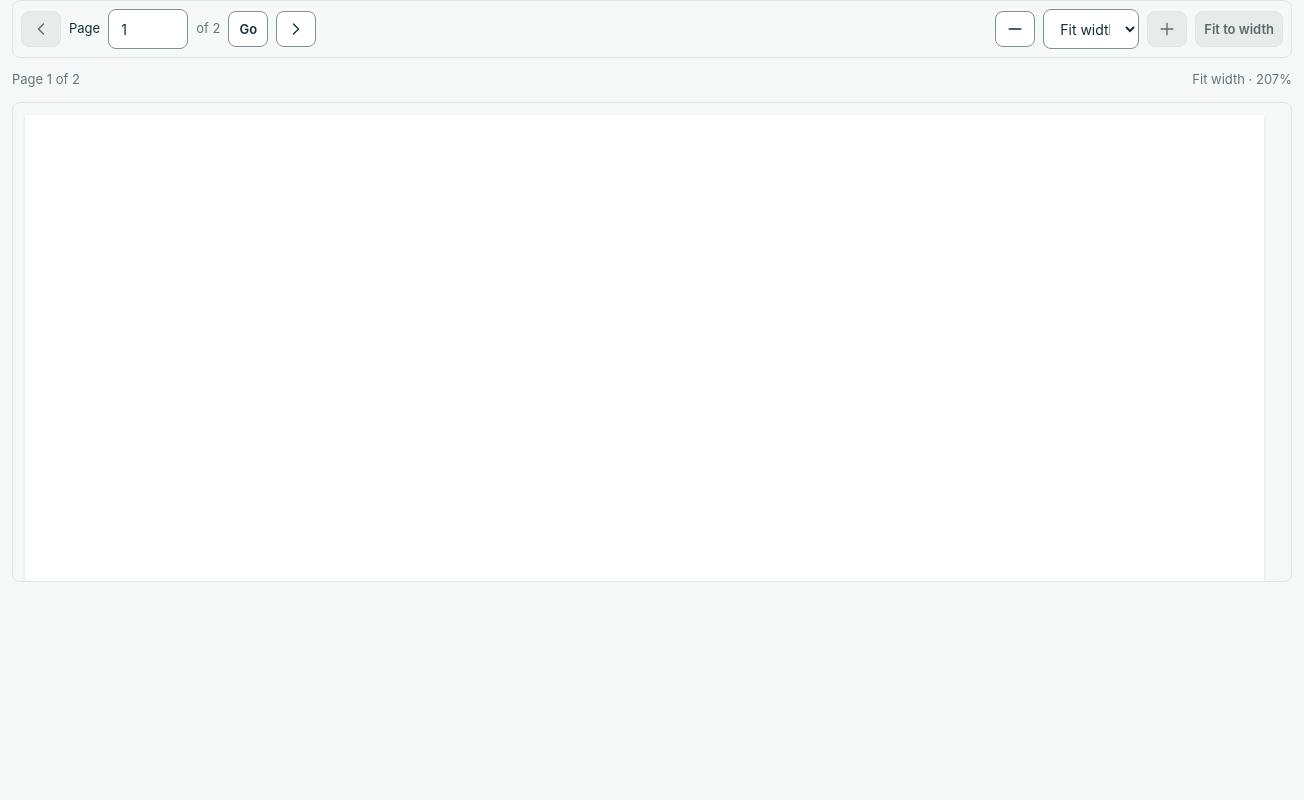
Test: PDF page reader › retains visual zoom across page changes and restores fit-to-width on demand
Select "150%" in the dropdown named "Zoom level": [1091, 29] box [1043,9,1139,49]
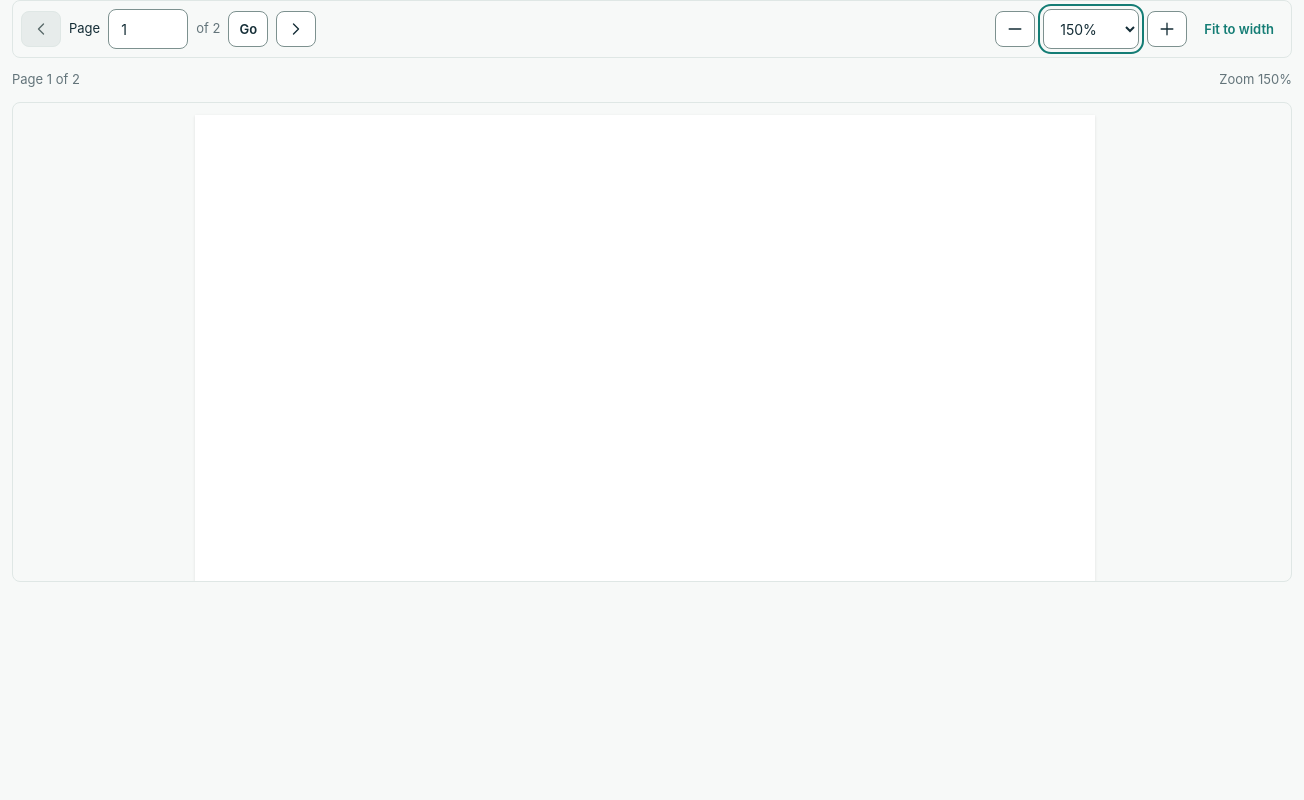
Expected: the text "Zoom 150%" is shown, [1219,70,1292,90]
Click the button named "Next page": [296, 29] box [276,11,316,47]
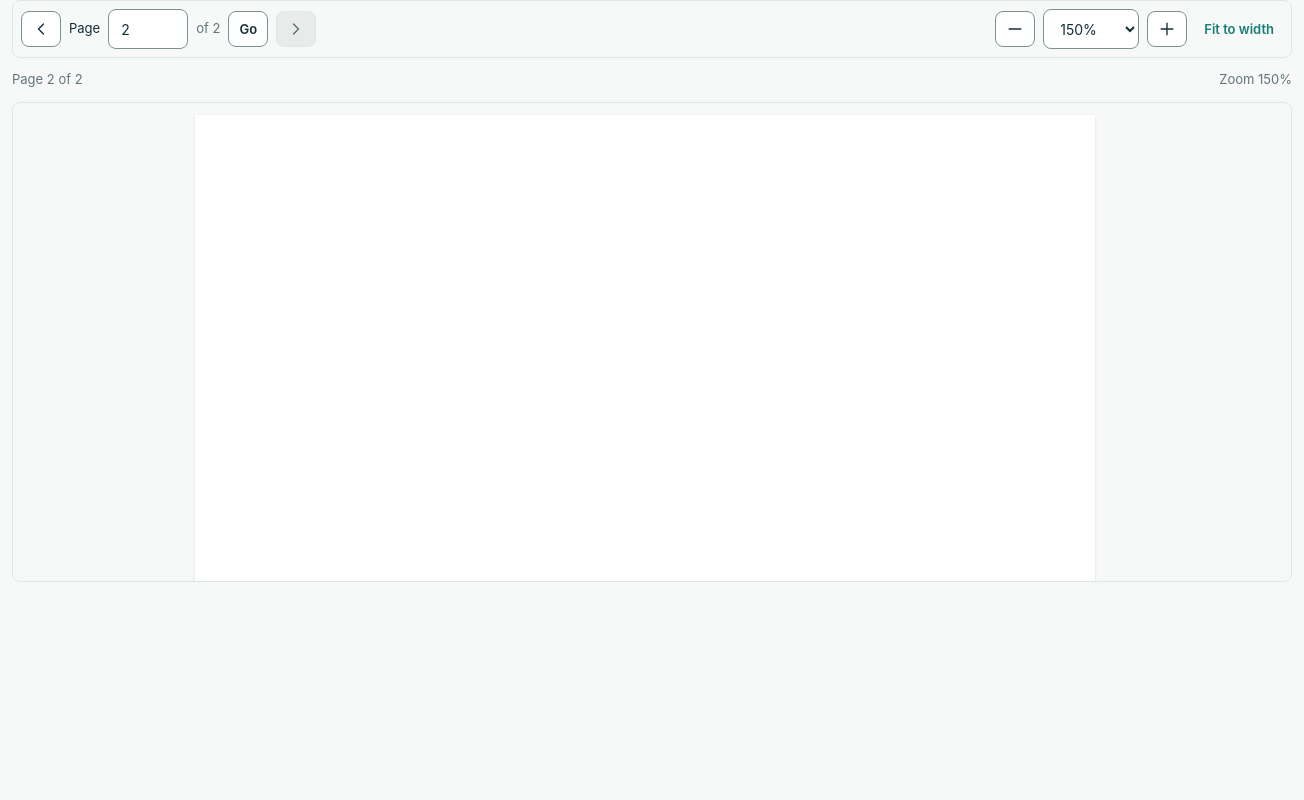
Click the button "Fit to width": [1239, 29] box [1195,11,1283,47]
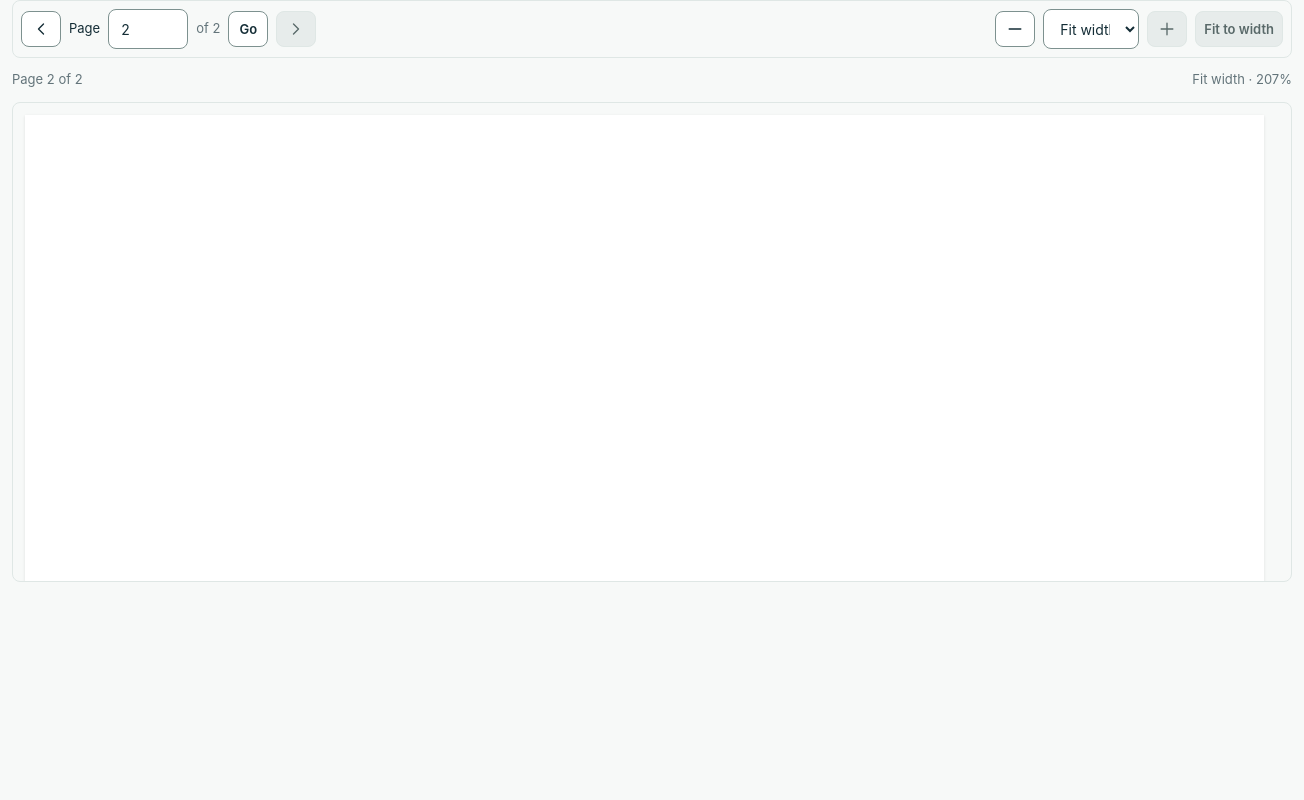
Expected: the button "Fit to width" is disabled, [1195,11,1283,47]
